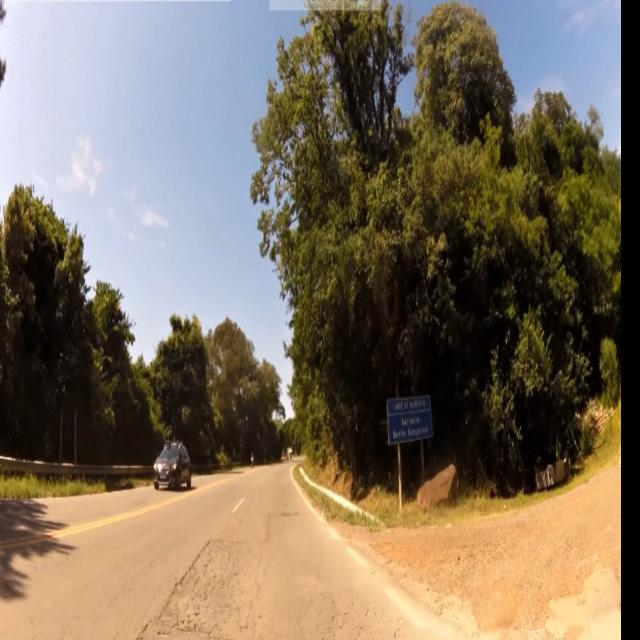LOC-6: (389, 400, 432, 441)
